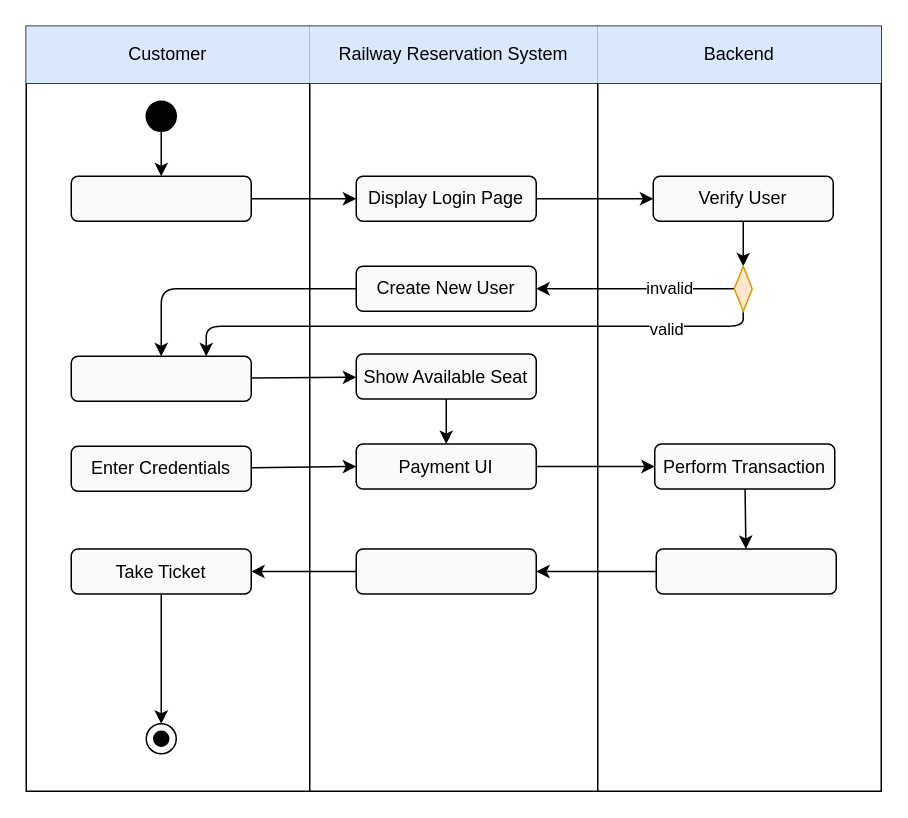
This 908x818 diagram has some shape labels left out. The centre of each missing label's shape, as x and y in pixels:
"Book Seat" goes at (x=160, y=378).
"Enter user Details" goes at (x=160, y=198).
"Provide Ticket" goes at (x=445, y=571).
"Reserve Flight" goes at (x=745, y=571).
